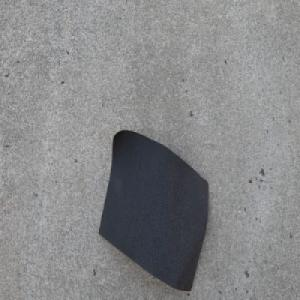PaintChip: (98, 128, 209, 292)
